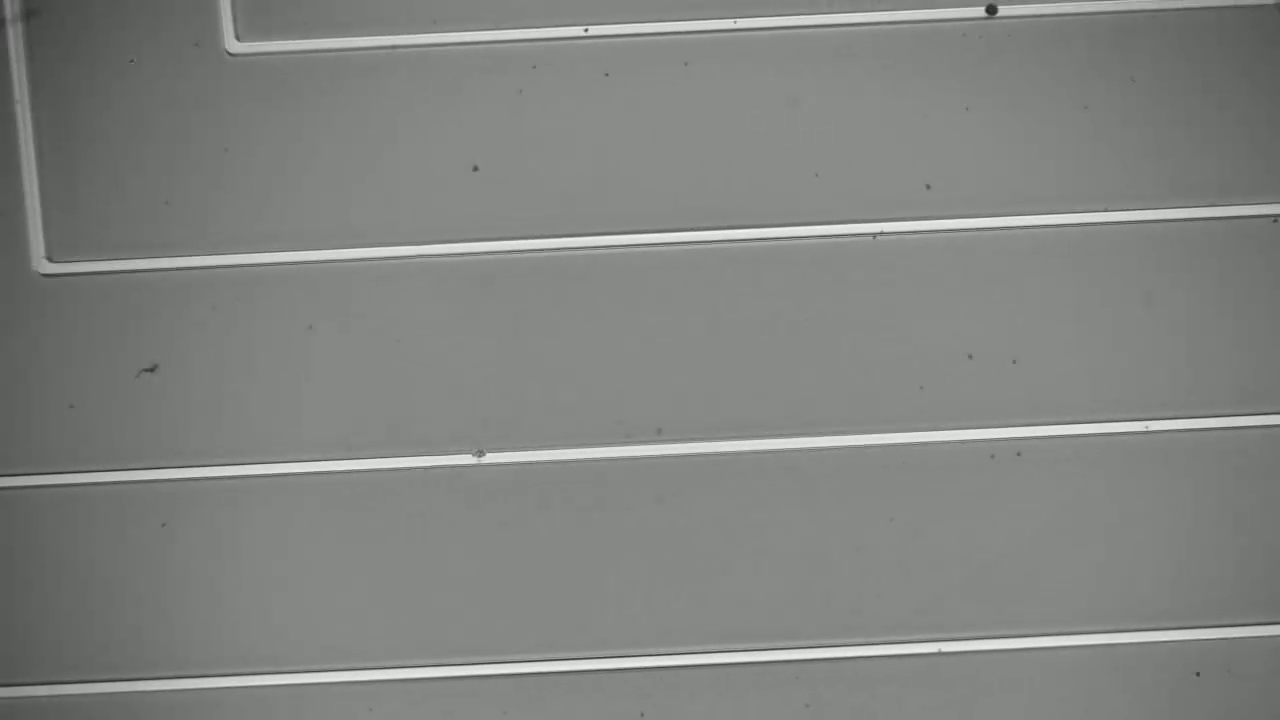stains_enbedded: (465, 440, 494, 474), (980, 1, 1012, 21)
